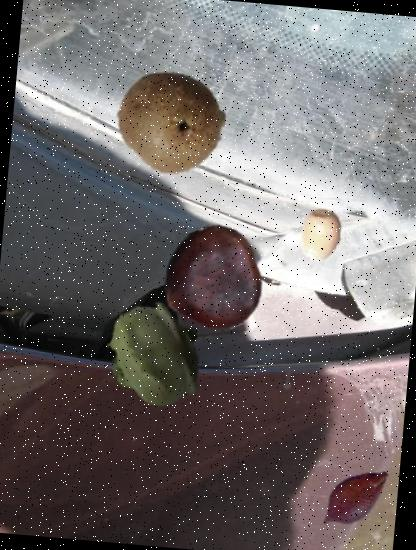Chestnut: (155, 225, 268, 338)
Kiwi: (112, 64, 230, 181)
Kohlrabi: (98, 296, 216, 414)
Kumquats: (292, 206, 349, 264)
Salak: (310, 454, 398, 543)
